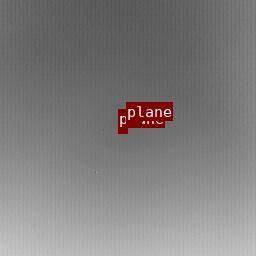plane: (126, 121, 141, 127), (118, 128, 127, 132)
